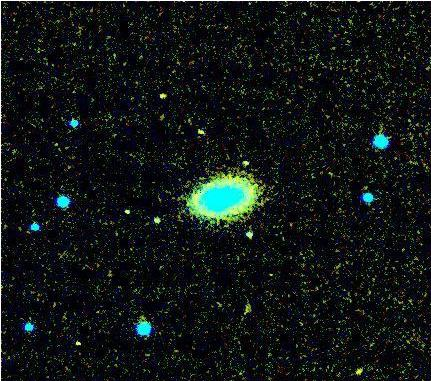star: (344, 356, 374, 381)
